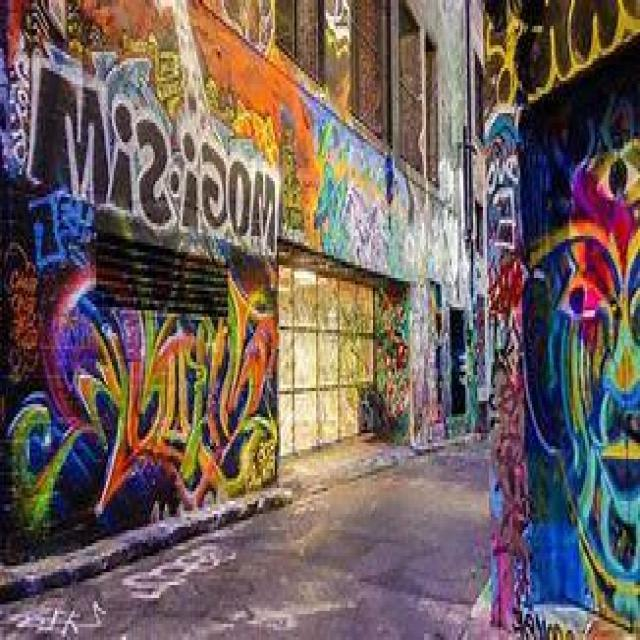nonspitting: (8, 272, 274, 528), (518, 107, 640, 627), (23, 55, 278, 258), (483, 116, 522, 608), (484, 0, 638, 105), (314, 120, 412, 274)
